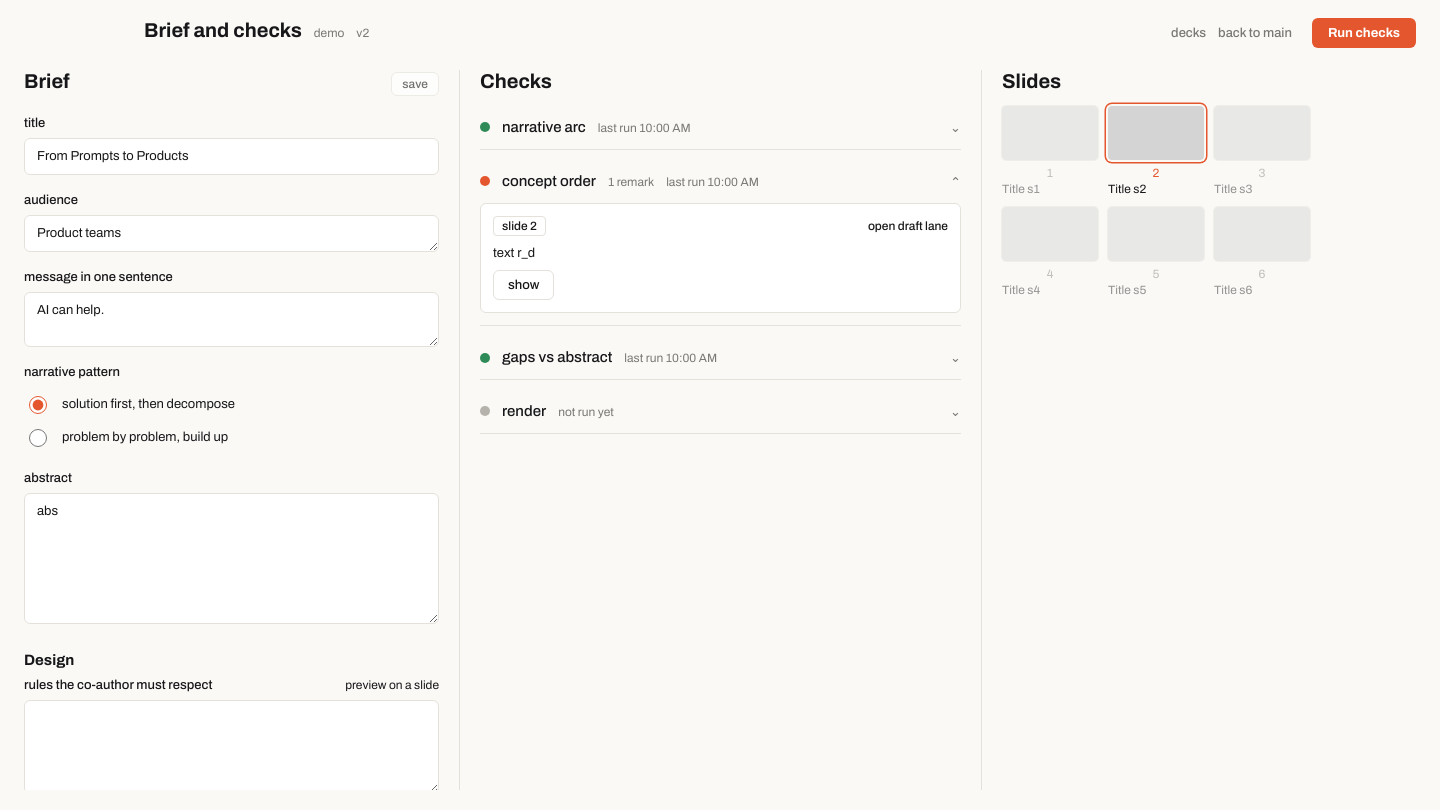
it: BriefChecks draft lanes › a remark linked to a draft lane offers "open draft lane" instead of propose; opening it turns into "lane ready"
Expected: the button "propose" is not shown
Click the button "open draft lane" at (908, 226), box [868,218,948,232]
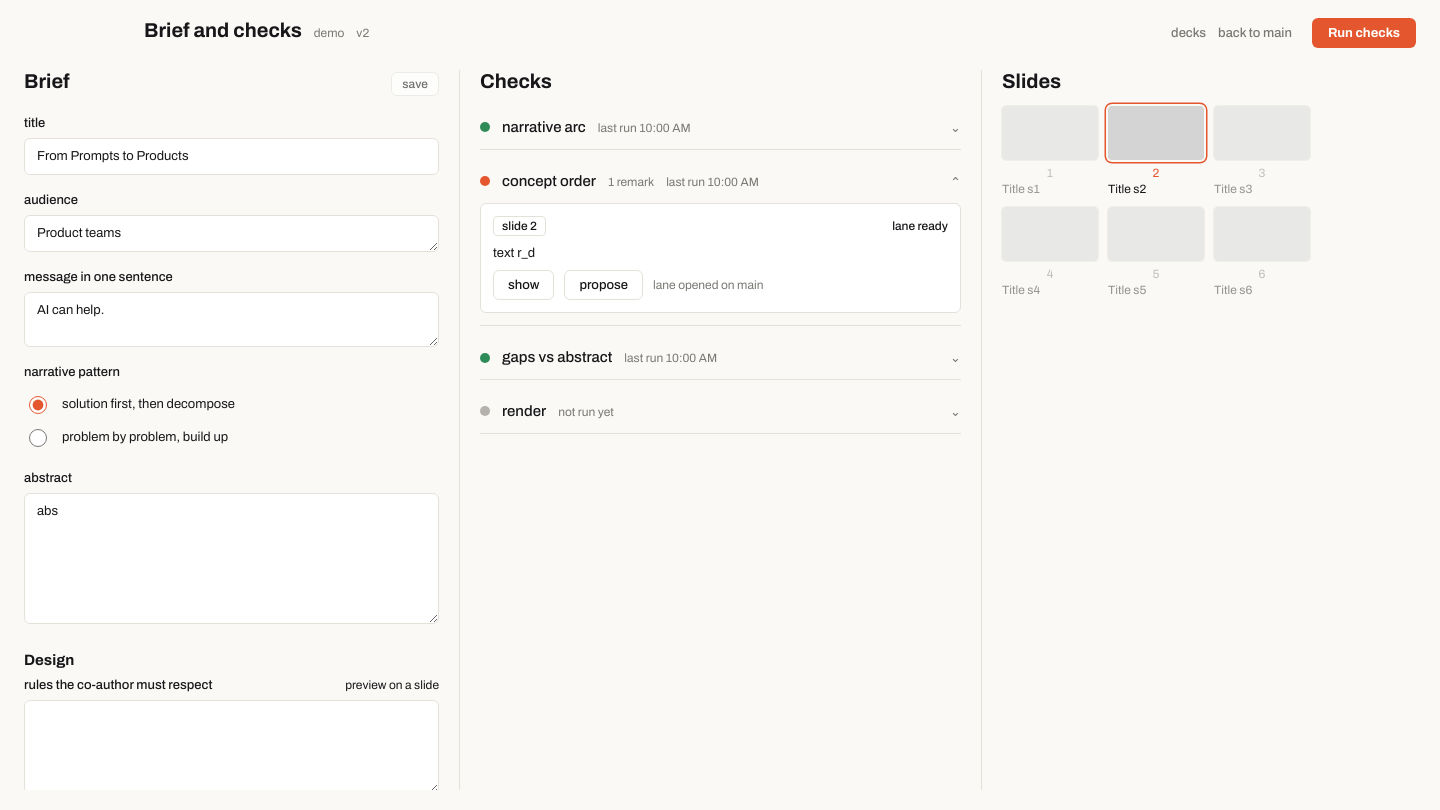
Now the link with test id "lane-ready" is shown, box [892,218,948,232]
Now the button "open draft lane" is gone
